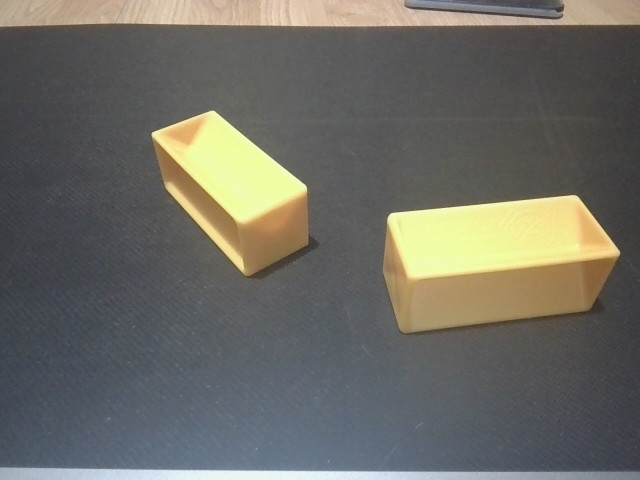YellowSample: (377, 191, 625, 337), (148, 107, 313, 282)
